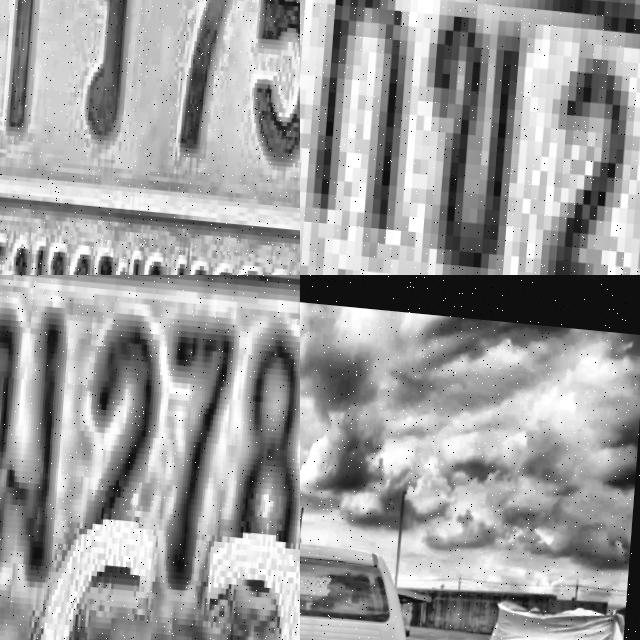license-plate: (0, 275, 300, 640), (300, 0, 640, 275), (0, 0, 300, 275)
